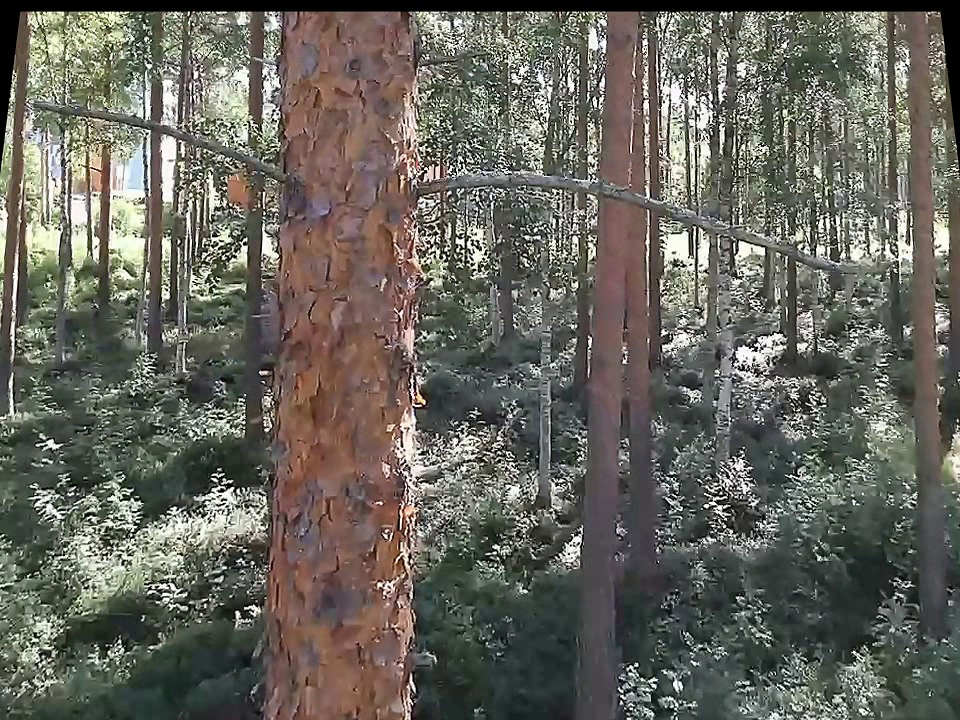branch: (428, 164, 838, 271), (25, 92, 288, 184)
trunk: (256, 16, 426, 714), (564, 16, 650, 714), (899, 48, 952, 640), (143, 28, 171, 364), (708, 205, 738, 482), (529, 273, 560, 510), (53, 143, 86, 307), (92, 136, 115, 306)
